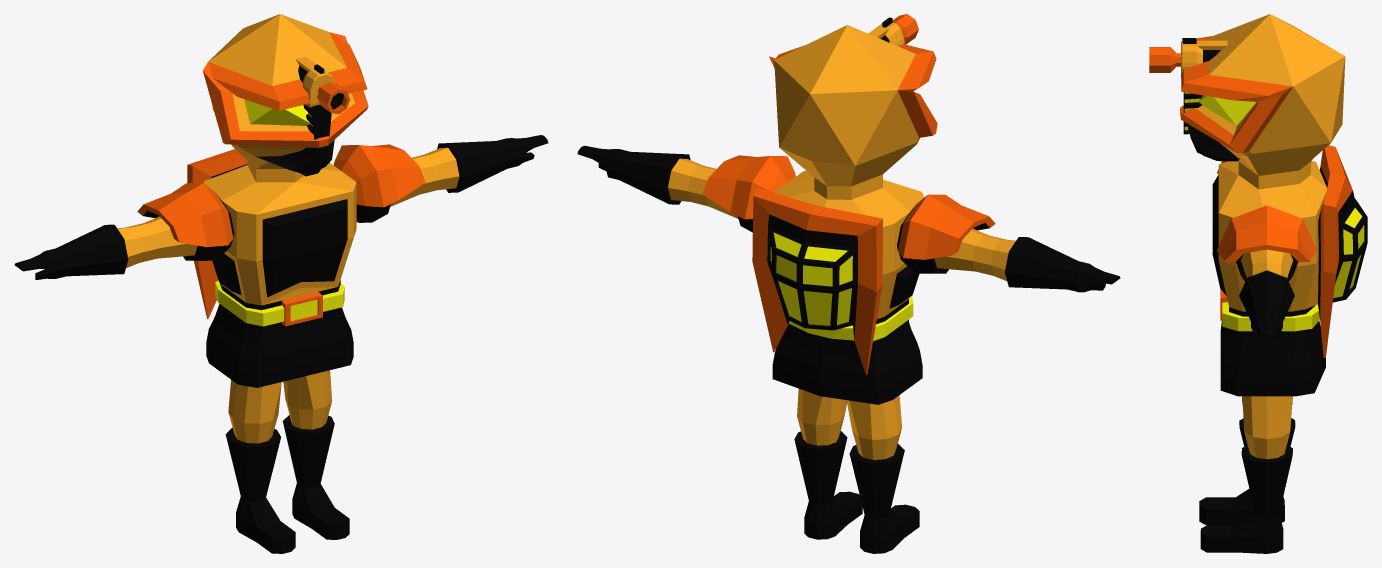
The model's file is MC_Firearm.glb.
The picture shows the model from 3 angles, left to right: view 1: azimuth 30°, elevation 25°; view 2: azimuth 150°, elevation 25°; view 3: azimuth 270°, elevation 25°; orthographic projection. The views are drawn at different scales.
Visible parts, largest first — view 1: Mack Co, Cube; view 2: Mack Co, Cube; view 3: Mack Co, Cube.
Boxes of the visible parts, <box> form: Mack Co: <box>14,14,548,553</box>; Cube: <box>295,56,350,160</box>; Mack Co: <box>577,25,1120,553</box>; Cube: <box>868,14,918,45</box>; Mack Co: <box>1180,14,1367,553</box>; Cube: <box>1149,38,1227,134</box>.
Size of the model in its own units: 7.38 by 6.8 by 2.59.
